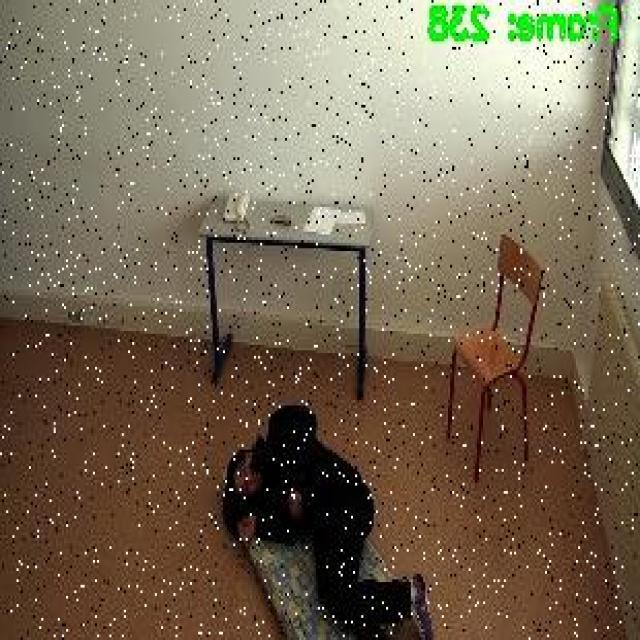fall: (219, 400, 444, 637)
